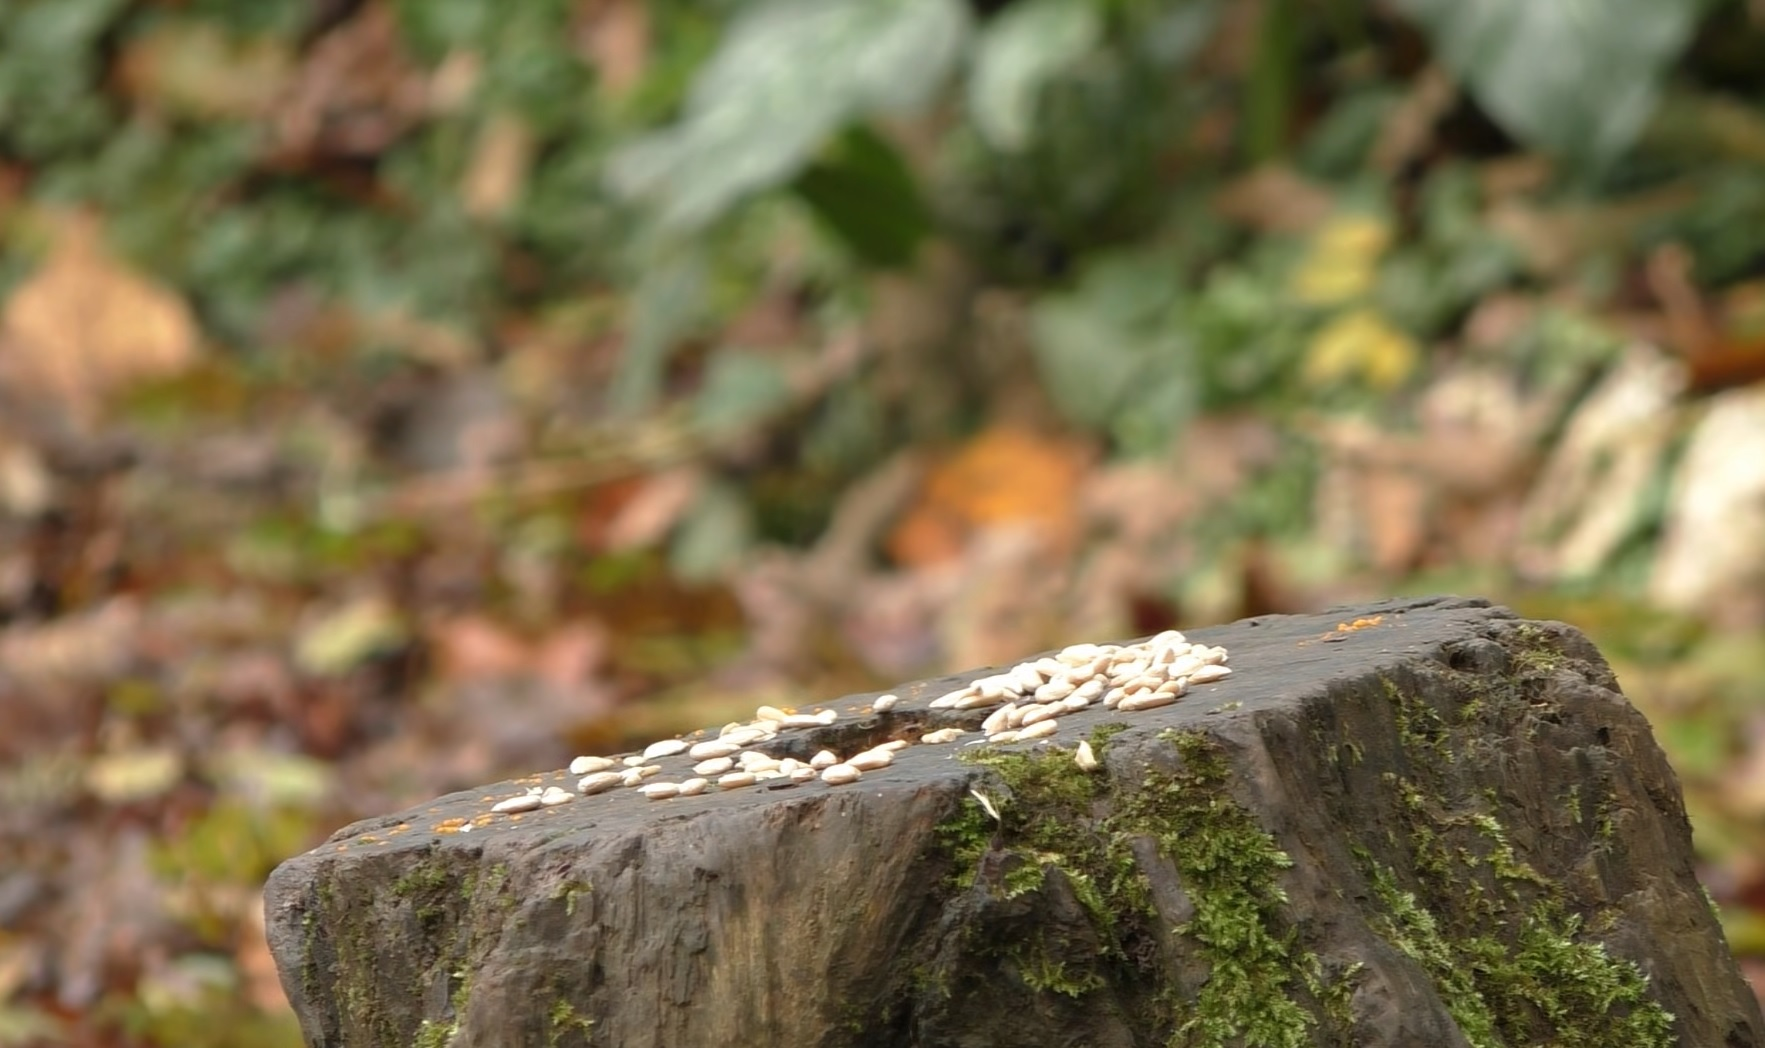seed: (447, 623, 1244, 808)
